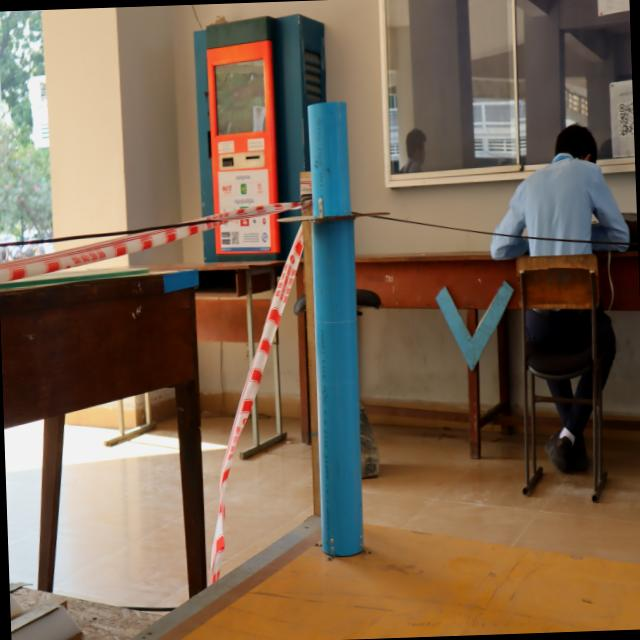pole: (262, 94, 397, 356)
